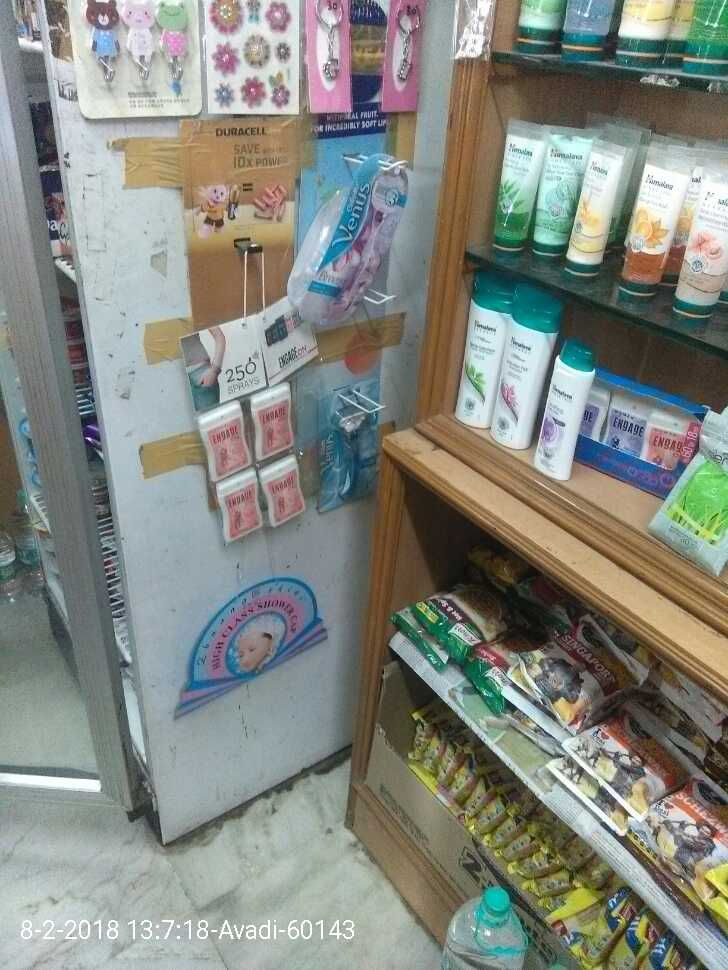venus: (289, 143, 392, 329), (320, 379, 385, 512)
